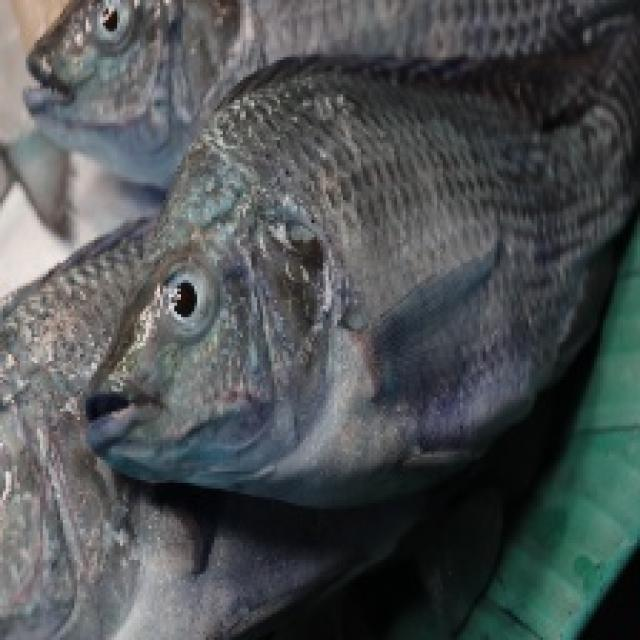Fresh: (224, 64, 587, 489), (148, 263, 218, 350)
